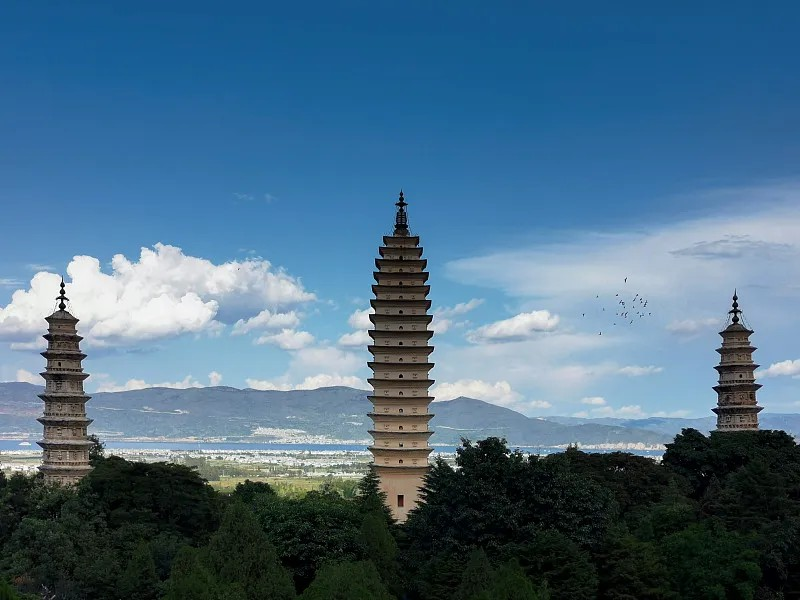ThreePagoda: (367, 190, 434, 525)
